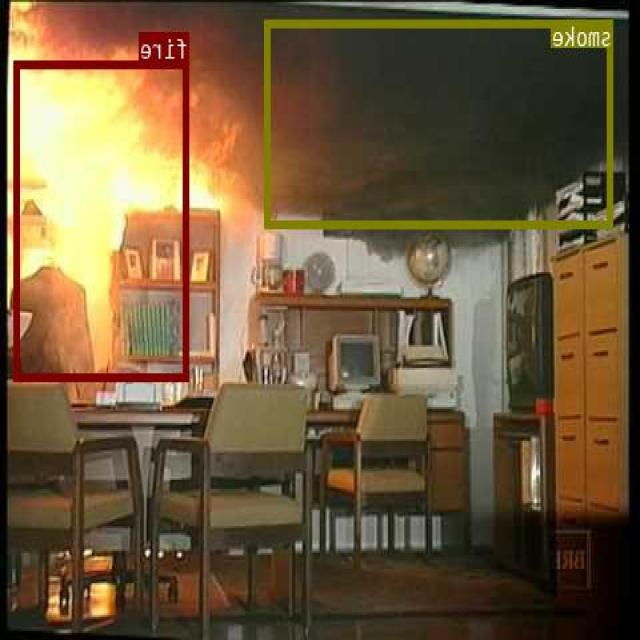fire: (15, 59, 190, 380)
smoke: (266, 18, 614, 226)
